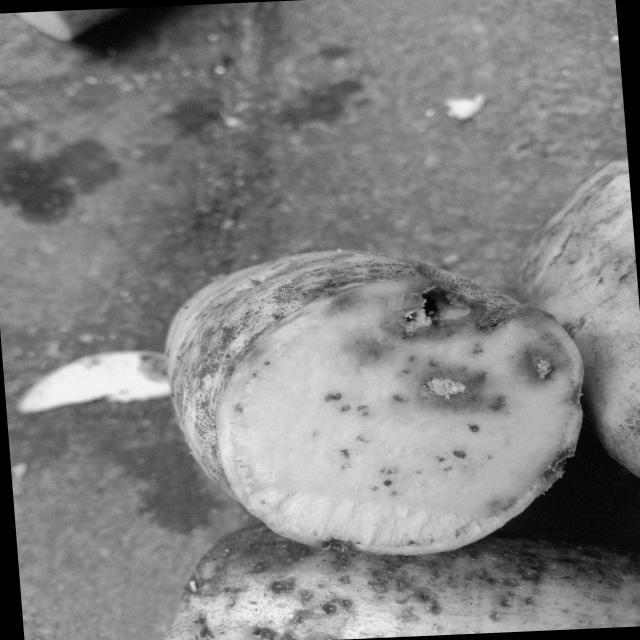Sick Sweet Potato_Tuber Rot: (217, 278, 582, 555)
